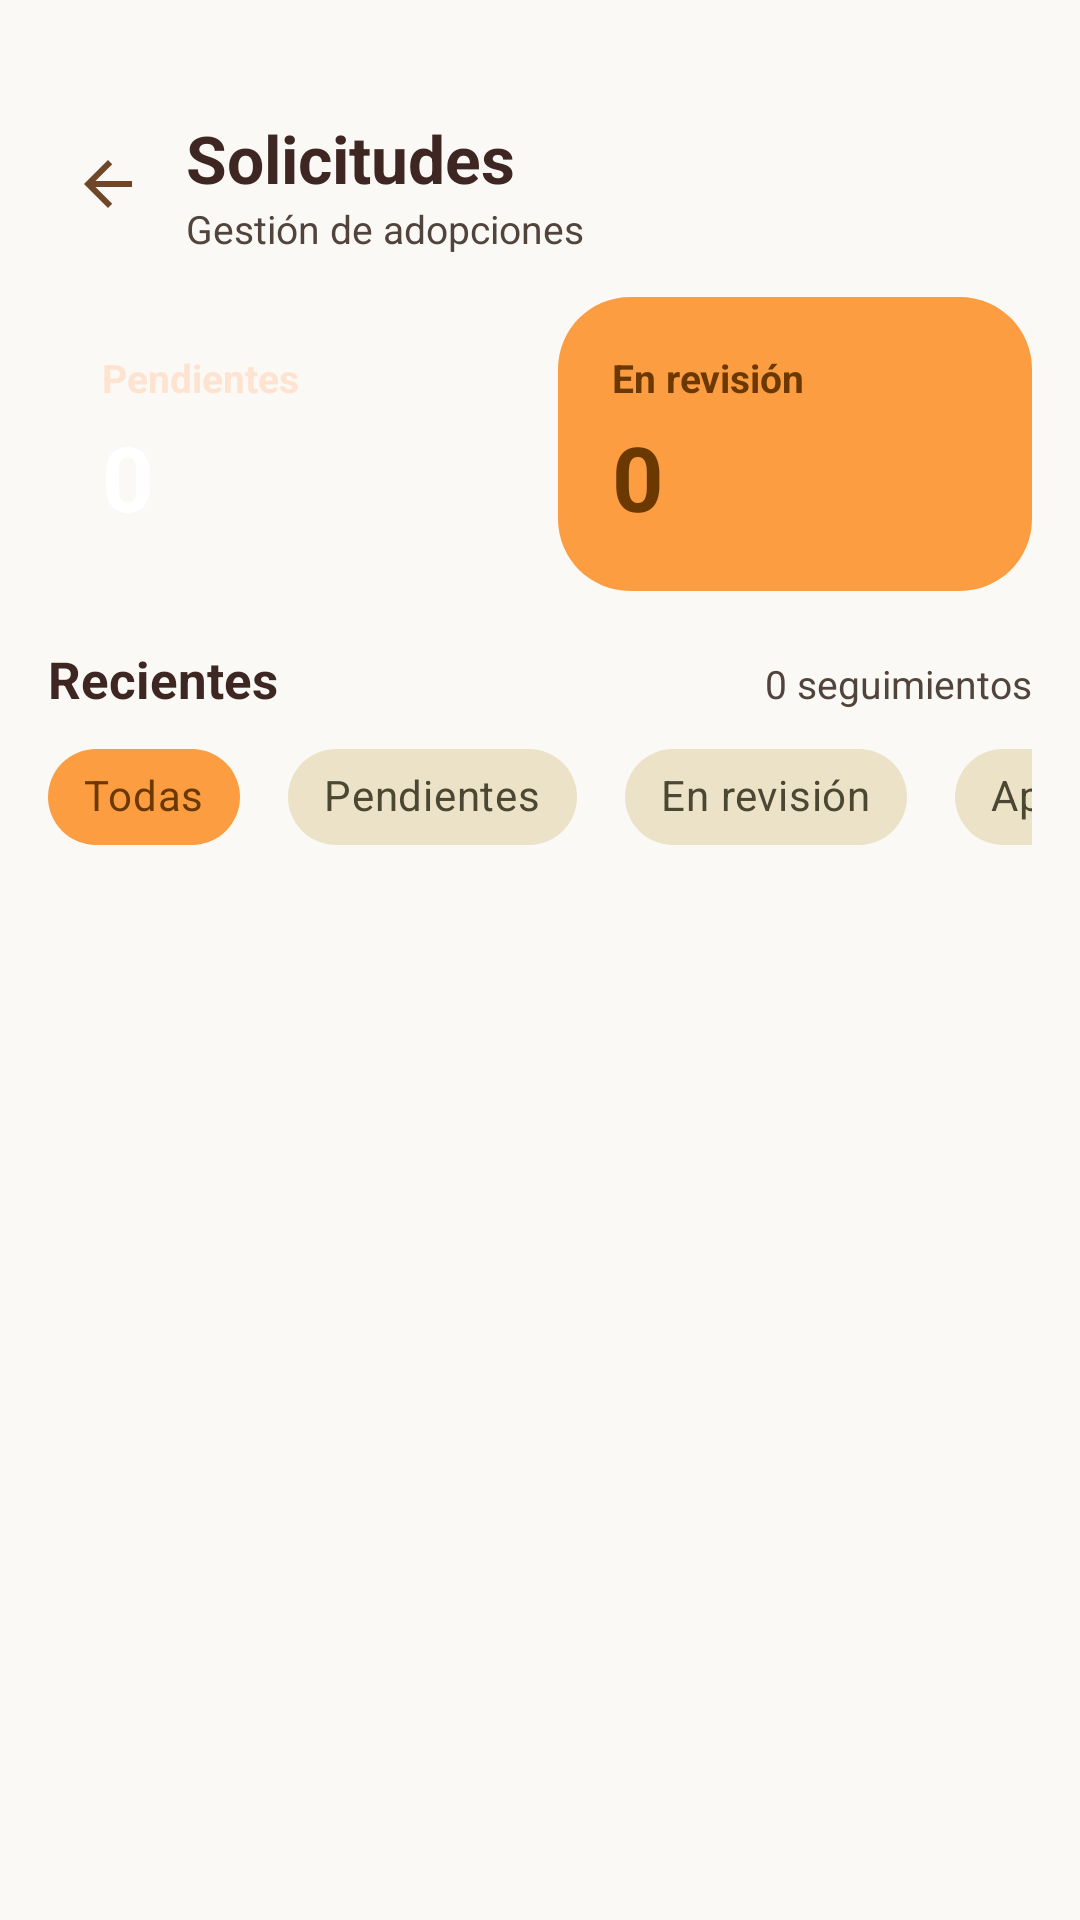

Where to tap for icons on this 1080 × 1920 app screen, as [x,y]:
Volver: [108,184]
